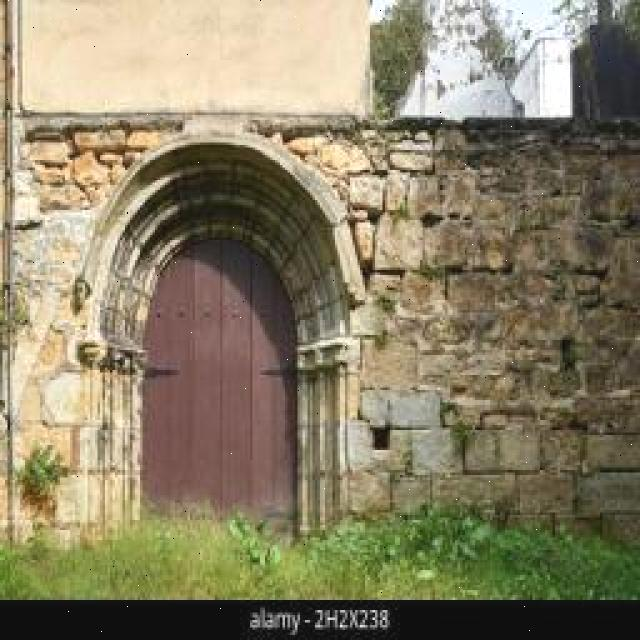crack: (2, 5, 23, 542), (14, 109, 372, 133), (529, 221, 611, 278), (360, 388, 446, 431), (9, 333, 52, 418), (374, 214, 429, 274), (585, 168, 640, 227), (445, 271, 511, 312), (364, 338, 421, 385), (429, 219, 480, 269), (459, 229, 513, 274), (439, 173, 488, 222), (408, 427, 459, 474), (339, 419, 380, 471), (403, 176, 450, 220), (342, 469, 389, 513), (179, 113, 256, 139), (384, 173, 424, 217), (317, 143, 370, 175), (346, 301, 389, 339), (389, 475, 431, 513), (339, 369, 349, 521), (347, 173, 387, 210), (35, 329, 68, 370), (42, 183, 91, 210), (414, 354, 460, 382), (351, 218, 377, 265), (30, 139, 72, 166), (388, 148, 434, 172), (448, 396, 500, 417), (73, 131, 119, 151), (124, 129, 165, 151), (286, 136, 327, 157), (479, 412, 517, 430), (443, 270, 450, 303)
dampens: (226, 514, 280, 573)
dampness: (350, 384, 638, 542), (402, 246, 636, 423), (9, 317, 139, 545), (27, 126, 165, 210), (37, 359, 132, 431)
vegetation: (1, 500, 638, 599), (538, 1, 635, 120), (365, 0, 429, 118), (445, 1, 519, 78), (68, 279, 112, 374), (20, 443, 67, 498), (21, 486, 58, 529), (446, 415, 476, 458), (3, 284, 31, 329), (375, 293, 397, 316)
